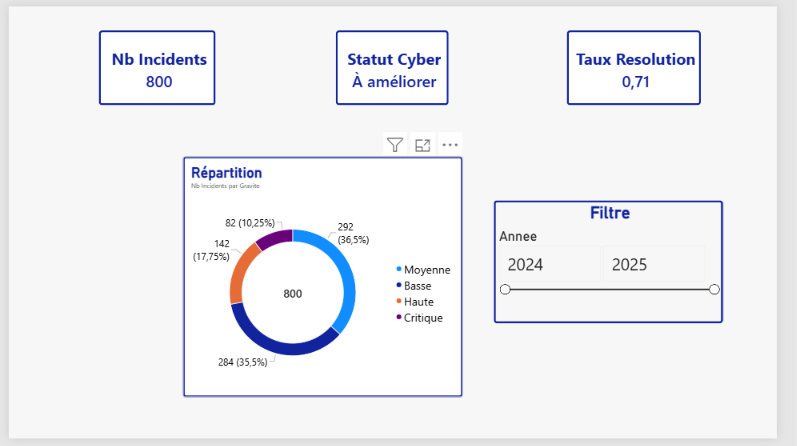

The page's visual inventory and layout, read from the dashboard file:
{"tool":"powerbi","page":{"name":"Vue globale","canvas":[1920,1080],"ordinal":0},"visuals":[{"type":"cardVisual","fields":{"Data":["Mesures.Nb Incidents"]},"box":[225,60,292.5,187.5],"z":0},{"type":"cardVisual","fields":{"Data":["Mesures.Taux Resolution"]},"box":[1395,60,335,187.5],"z":1000},{"type":"cardVisual","fields":{"Data":["Mesures.Statut Cyber"]},"box":[817.5,60,282.5,187.5],"z":2000},{"type":"donutChart","title":"Répartition","fields":{"Category":["incidents.Gravite"],"Y":["Mesures.Nb Incidents"]},"box":[435,375,700,602.5],"z":3000},{"type":"slicer","title":"Filtre","fields":{"Values":["Calendrier.Annee"]},"box":[1212.5,485,572.5,307.5],"z":4000}]}

Visuals, with their boxes in screenshot pixels (x1, y1, x2, y2), scaled from the page's 1920x1080 canvas onto the 797x446 screenshot:
cardVisual - Mesures.Nb Incidents: locate(93, 25, 215, 102)
cardVisual - Mesures.Taux Resolution: locate(579, 25, 718, 102)
cardVisual - Mesures.Statut Cyber: locate(339, 25, 457, 102)
"Répartition" donutChart: locate(181, 155, 471, 404)
"Filtre" slicer: locate(503, 200, 741, 327)
